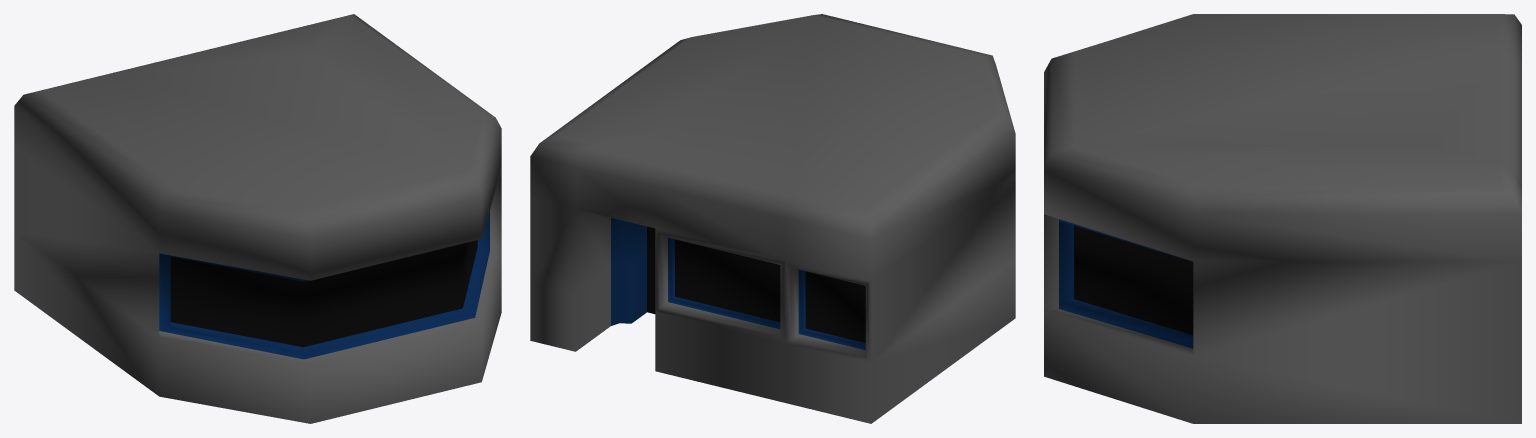
The model's file is NATO Heavy Machine Gun Position.obj.
The picture shows the model from 3 angles, left to right: view 1: azimuth 30°, elevation 25°; view 2: azimuth 150°, elevation 25°; view 3: azimuth 270°, elevation 25°; orthographic projection. The views are drawn at different scales.
Parts seen in each view (by area): view 1: NATO_Heavy_Machine_Gun_Position_Cube; view 2: NATO_Heavy_Machine_Gun_Position_Cube; view 3: NATO_Heavy_Machine_Gun_Position_Cube.
Part boxes in pixels (bbox=[...]): NATO_Heavy_Machine_Gun_Position_Cube: bbox=[14, 14, 501, 423]; NATO_Heavy_Machine_Gun_Position_Cube: bbox=[530, 14, 1015, 423]; NATO_Heavy_Machine_Gun_Position_Cube: bbox=[1044, 14, 1521, 423].
Size of the model in its own units: 6 by 3.4 by 6.4.
